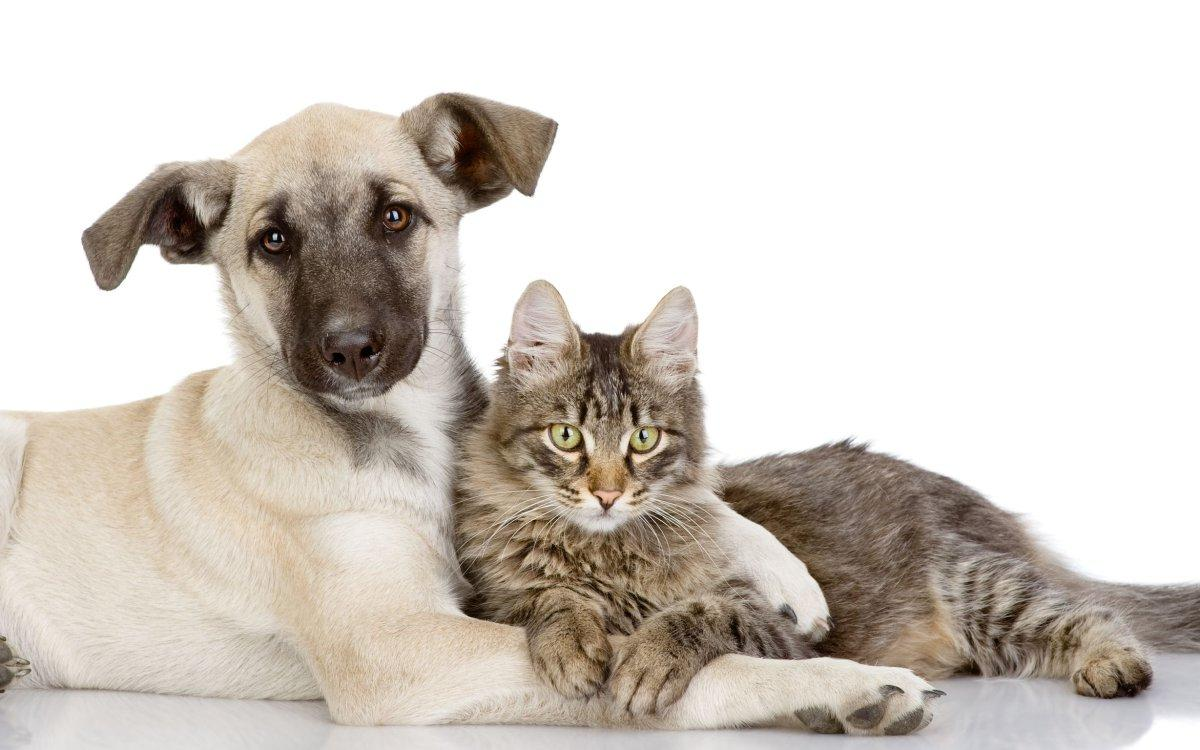animals: (0, 89, 600, 750), (458, 276, 1171, 694)
